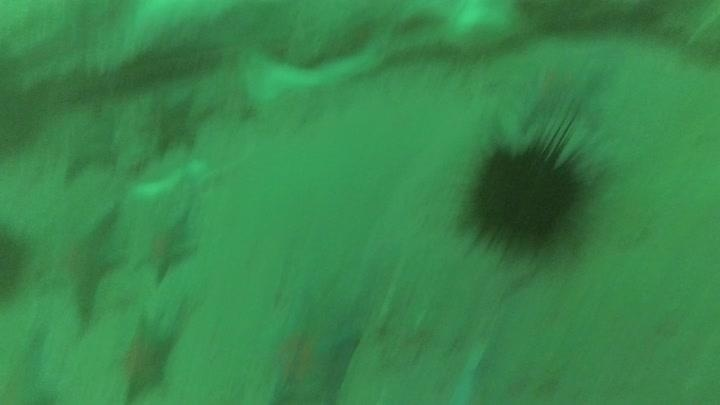echinus: (457, 124, 596, 260), (0, 222, 33, 305)
starfish: (471, 39, 614, 150), (253, 290, 363, 405), (35, 199, 127, 330), (29, 100, 120, 182), (108, 314, 180, 403), (133, 206, 200, 286), (136, 87, 204, 157)
